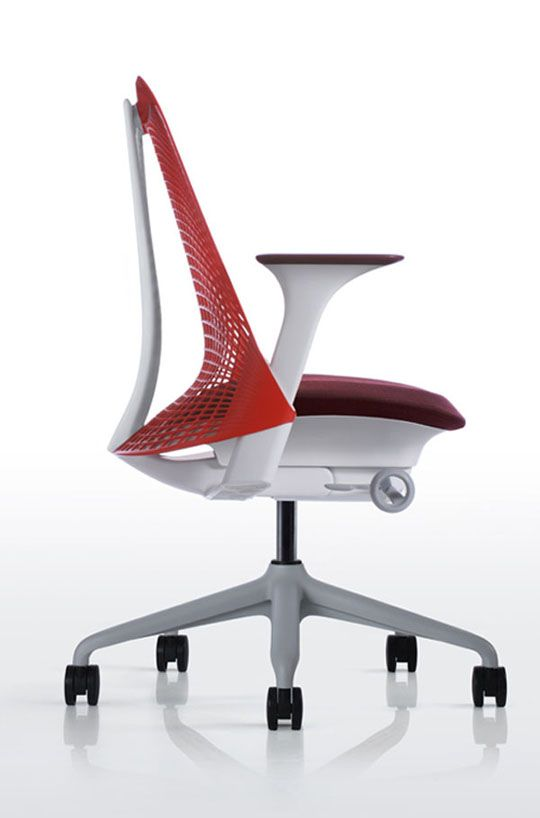chairs: (51, 70, 511, 733)
